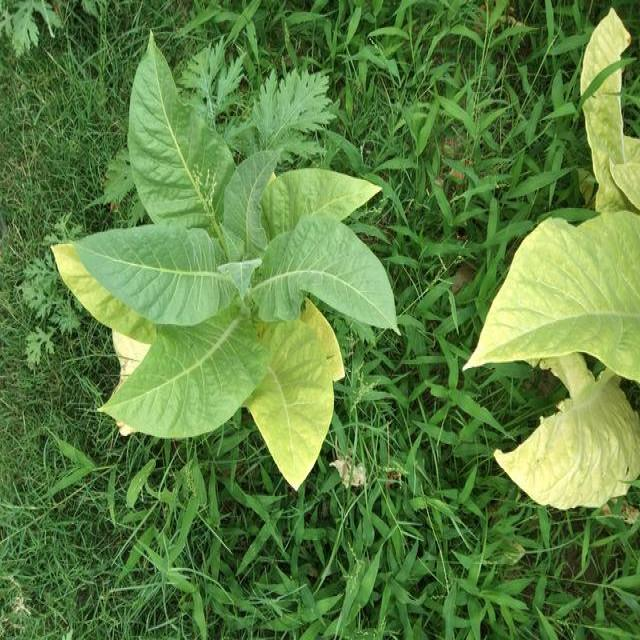crop: (55, 37, 403, 491)
